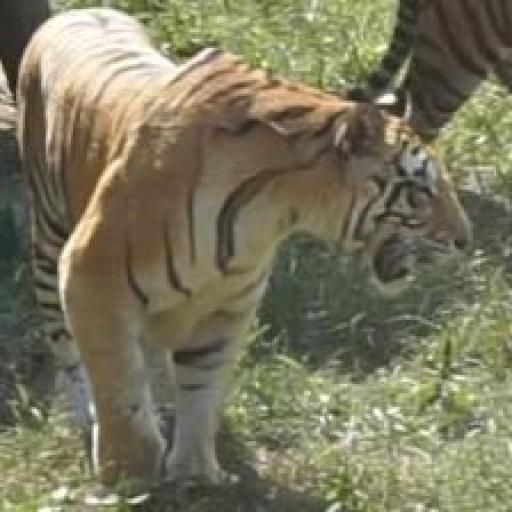Tiger: (25, 0, 495, 509)
